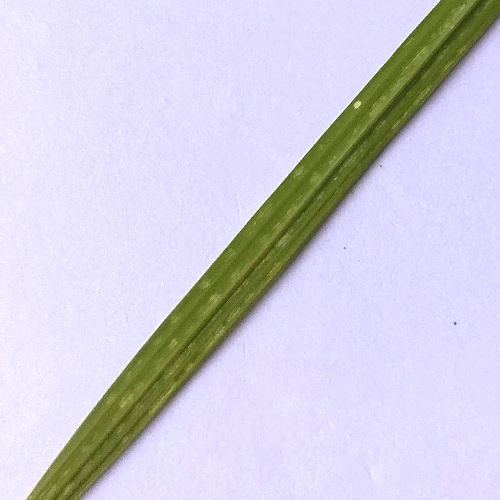Busuk Leher: (351, 94, 366, 113)
